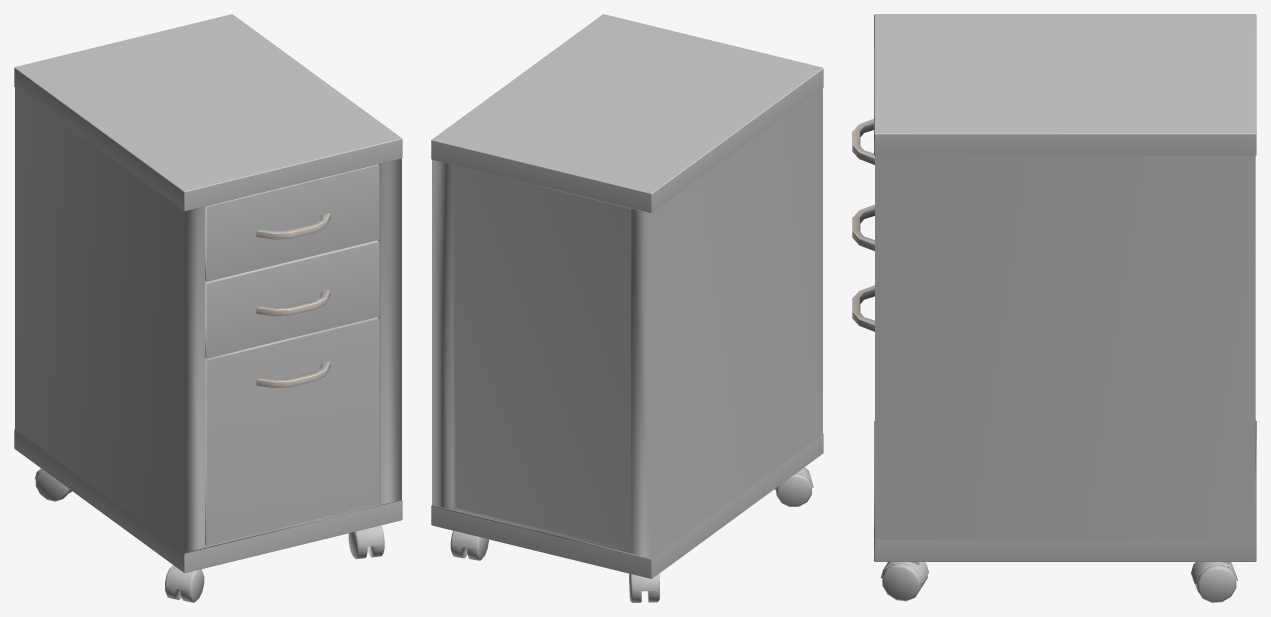
The model's file is rollcontainer.fbx.
The picture shows the model from 3 angles, left to right: view 1: azimuth 30°, elevation 25°; view 2: azimuth 150°, elevation 25°; view 3: azimuth 270°, elevation 25°; orthographic projection. The views are drawn at different scales.
Visible parts, largest first — view 1: Mesh; view 2: Mesh; view 3: Mesh.
Part boxes in pixels (left/top/right/bottom): Mesh: left=14, top=14, right=402, bottom=602; Mesh: left=431, top=14, right=823, bottom=602; Mesh: left=852, top=14, right=1256, bottom=602.
Bounding box in the file's own units: 37.95 × 68.73 × 53.17.
